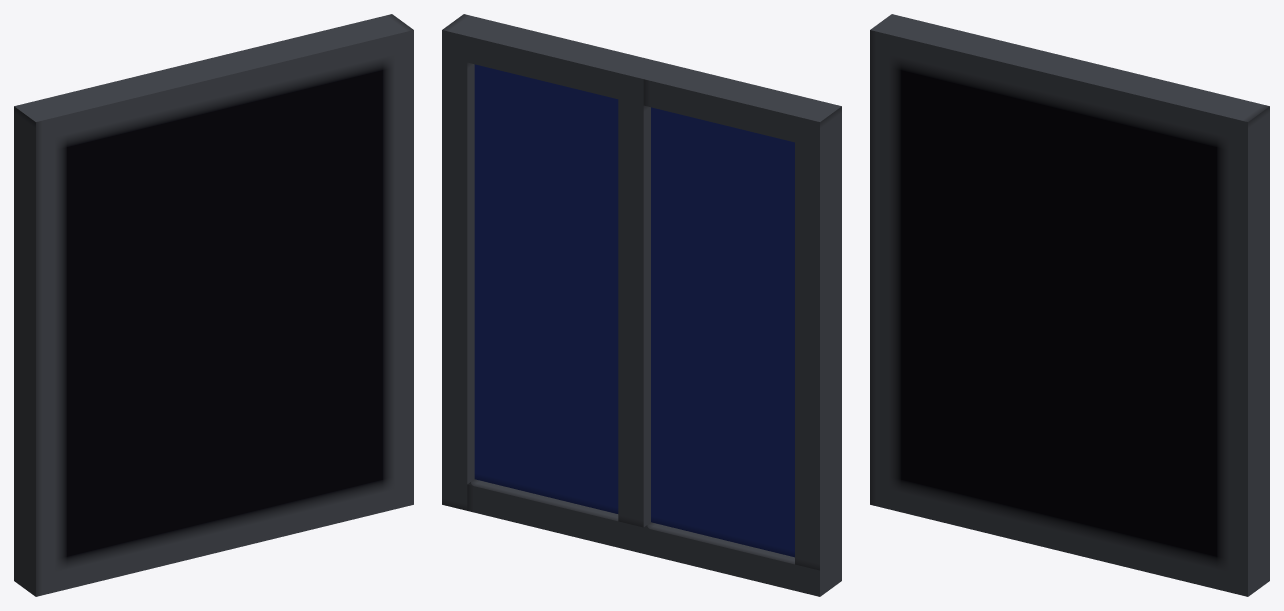
File: okno_b_z.dae
3 views of the same model, side by side, from view 1: azimuth 30°, elevation 25°; view 2: azimuth 150°, elevation 25°; view 3: azimuth 330°, elevation 25° (orthographic).
Parts seen in each view (by area): view 1: Content; view 2: Content; view 3: Content.
Boxes of the visible parts, box(x1,y1,x2,y2) form: Content: box(14, 14, 413, 596); Content: box(442, 14, 841, 596); Content: box(870, 14, 1269, 596).
Size of the model in its own units: 30 by 36 by 3.
1 material, 1 textured.
